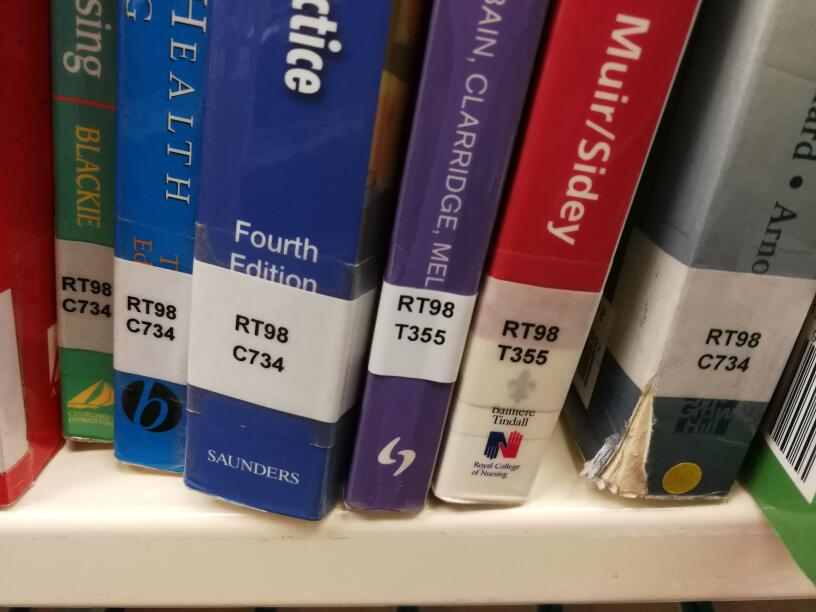booklabel: (229, 310, 292, 374), (393, 292, 459, 347), (694, 324, 762, 373), (496, 316, 561, 367), (124, 293, 178, 342), (57, 273, 111, 318)
